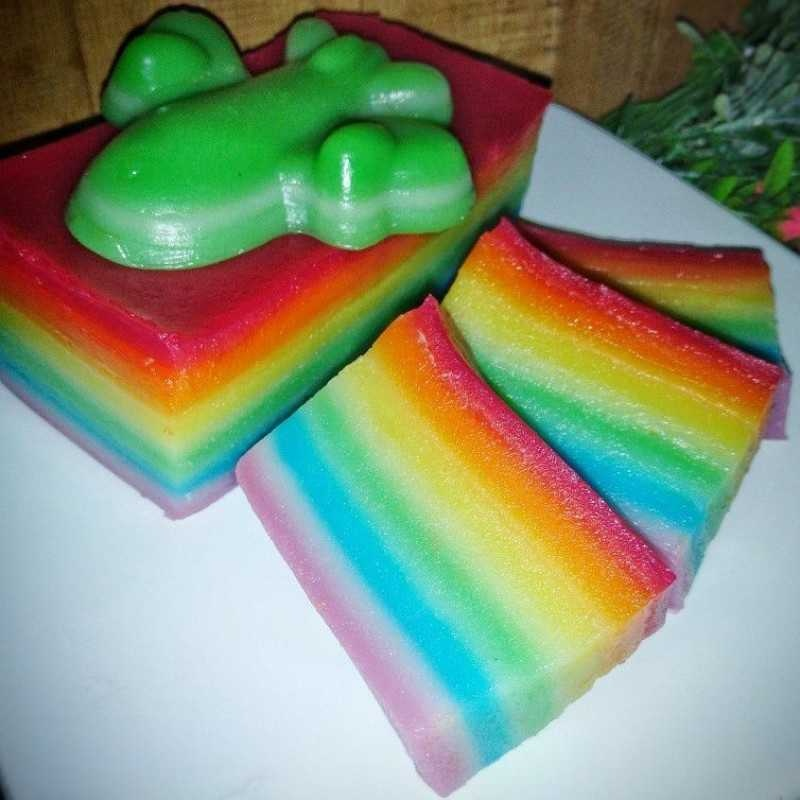kue_lapis_pelangi: (231, 295, 672, 795), (434, 209, 786, 606), (1, 229, 197, 522)
